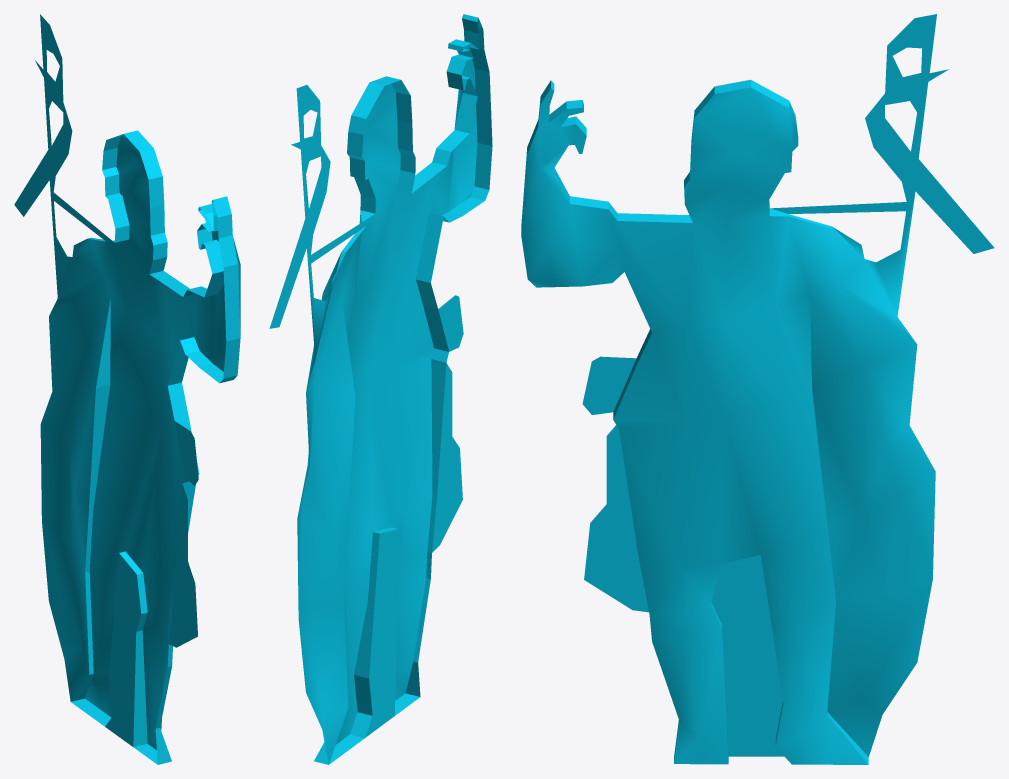
3 renders of one model, left to right at view 1: azimuth 30°, elevation 25°; view 2: azimuth 150°, elevation 25°; view 3: azimuth 270°, elevation 25°, orthographic. The views are drawn at different scales.
Parts seen in each view (by area): view 1: Object075; view 2: Object075; view 3: Object075.
Boxes of the visible parts, x1,y1,x2,y2 form: Object075: (14,14,240,764); Object075: (269,14,492,764); Object075: (521,14,994,764).
Bounding box in the file's own units: 19 × 445 × 257.
